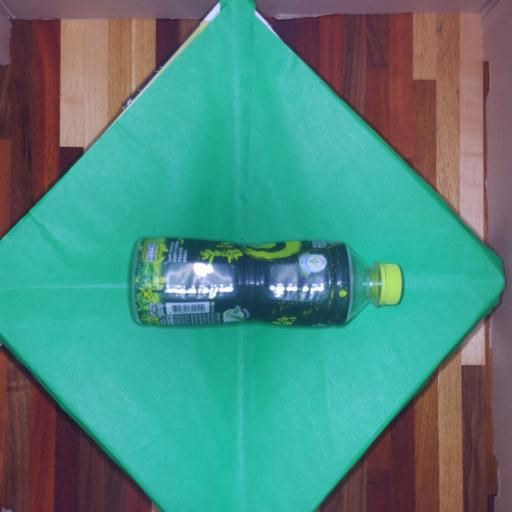bottle: (98, 200, 436, 358)
